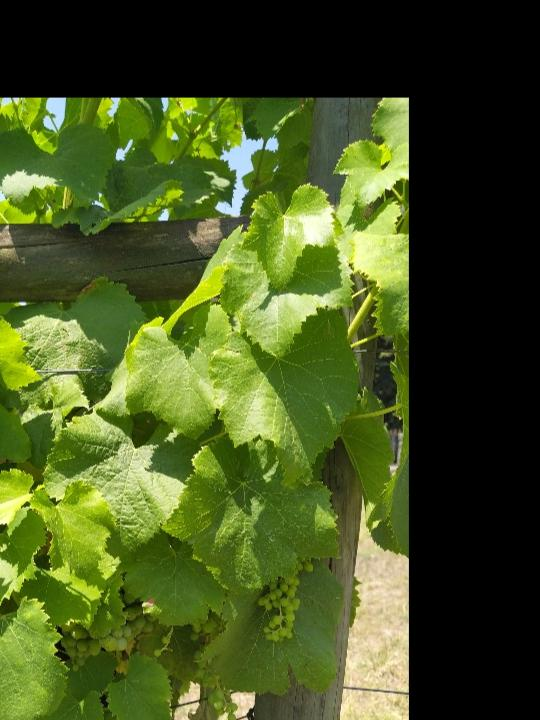grape: (258, 559, 320, 648)
